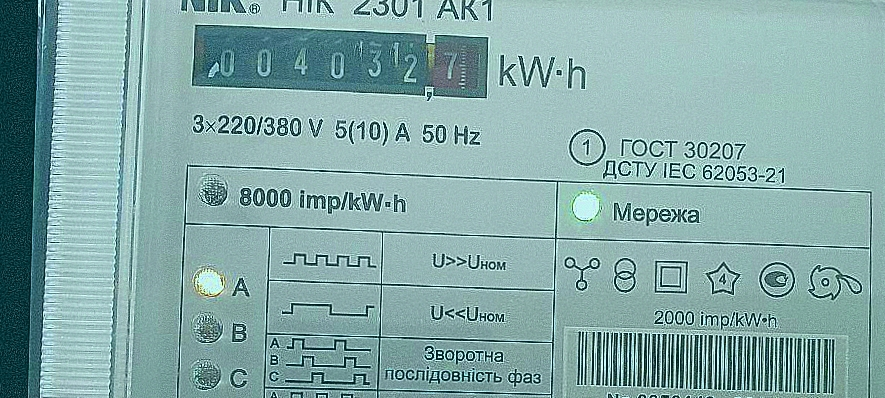0: (252, 45, 273, 79), (216, 44, 236, 78), (326, 47, 346, 81)
2: (400, 50, 419, 85)
3: (364, 46, 383, 79)
4: (289, 43, 310, 80)
7: (441, 48, 459, 82)
screen: (180, 15, 496, 111)
